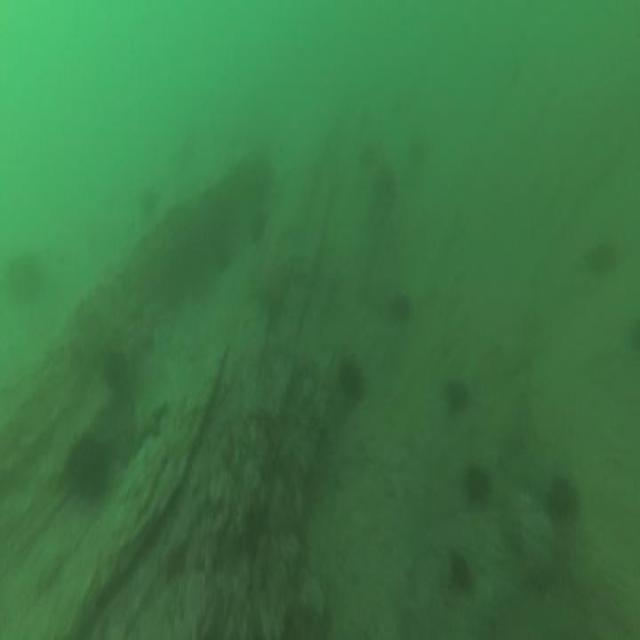echinus: (64, 431, 111, 506), (3, 242, 49, 310), (541, 469, 583, 528), (366, 155, 401, 213), (462, 456, 494, 514), (335, 349, 365, 408), (444, 547, 476, 602), (100, 345, 130, 398), (442, 370, 471, 422), (586, 234, 622, 275), (383, 289, 414, 327), (245, 202, 271, 246), (139, 179, 161, 221), (213, 240, 233, 278)
starfish: (130, 400, 170, 452)
